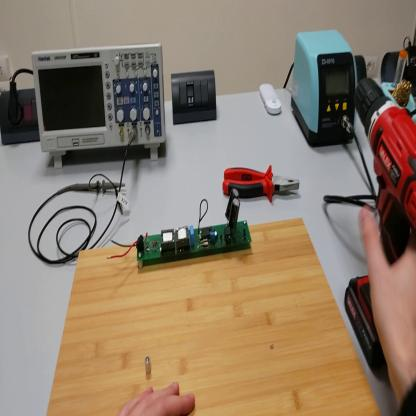electric screwdriver: (344, 79, 416, 371)
hand: (358, 206, 416, 387), (121, 384, 197, 415)
high voltage board: (106, 186, 255, 270)
oscilloscope: (29, 35, 171, 174)
oscilloscope probe tip: (72, 176, 127, 197)
pliers: (222, 162, 300, 206)
socket: (2, 88, 40, 148), (382, 47, 415, 82), (355, 50, 365, 75)
welder base: (380, 51, 416, 121)
welder station: (290, 21, 360, 149)
working area: (49, 219, 381, 416)
